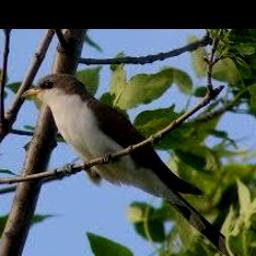Cuckoo: (20, 74, 240, 256)
